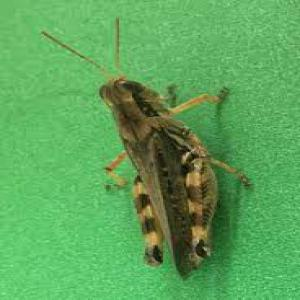locust: (50, 34, 268, 278)
